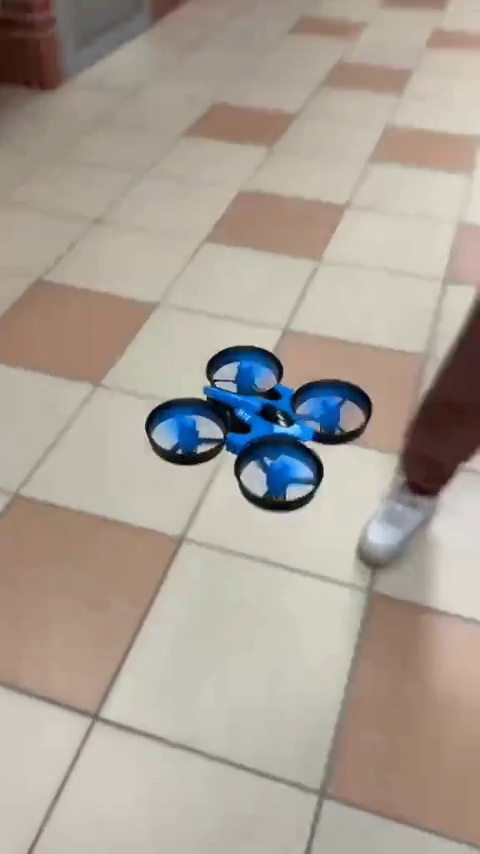drone: (143, 343, 375, 502)
